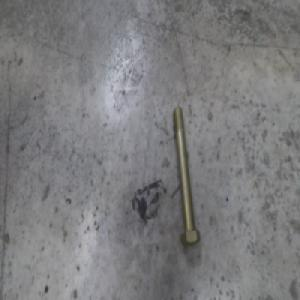Bolt: (166, 103, 195, 243)
